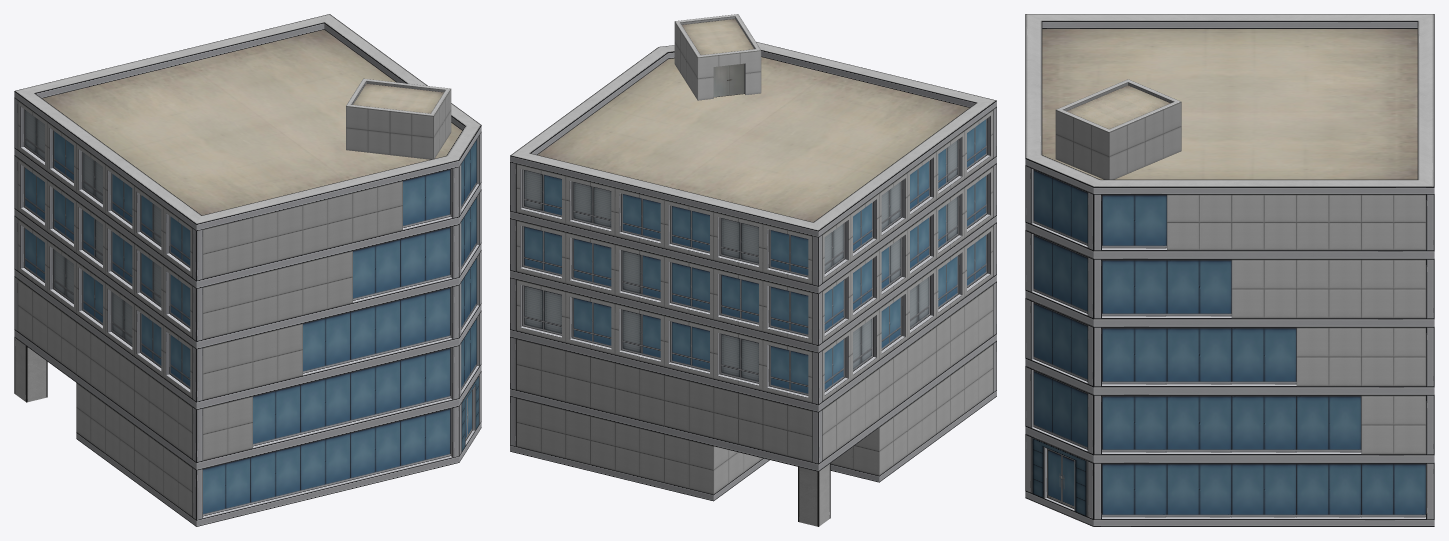
3 renders of one model, left to right at view 1: azimuth 30°, elevation 25°; view 2: azimuth 150°, elevation 25°; view 3: azimuth 270°, elevation 25°, orthographic. The views are drawn at different scales.
Visible parts, largest first — view 1: MainBuilding; view 2: MainBuilding; view 3: MainBuilding.
Boxes of the visible parts, x1,y1,x2,y2 form: MainBuilding: (14, 14, 481, 526); MainBuilding: (510, 14, 996, 526); MainBuilding: (1025, 14, 1434, 526).
Size of the model in its own units: 1.2 by 1.24 by 1.2.
1 material, 1 textured.
